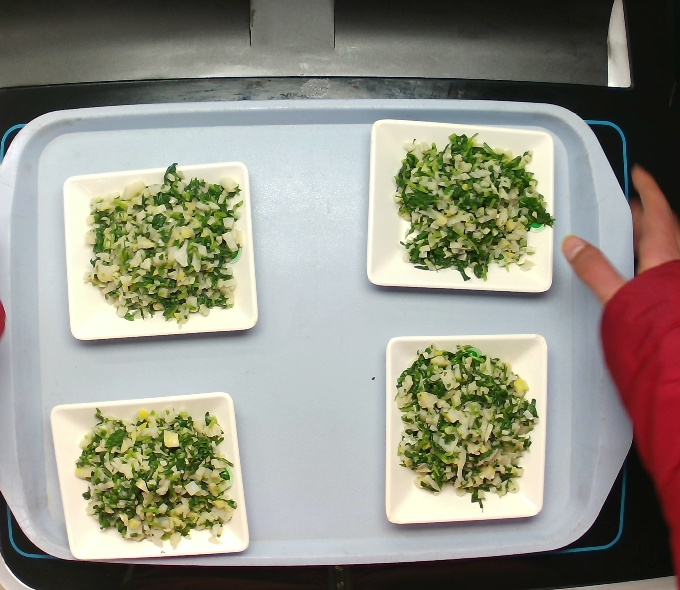wcq-MaLanTouBanChunSun: (374, 127, 573, 286), (74, 162, 249, 321), (64, 403, 240, 545), (382, 350, 546, 496)
